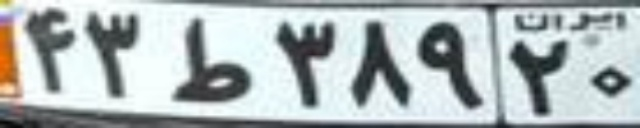0: (588, 65, 638, 98)
2: (506, 37, 572, 116)
3: (270, 21, 340, 107), (84, 11, 135, 96)
4: (23, 8, 75, 93)
8: (347, 17, 412, 108)
9: (415, 21, 487, 108)
taa: (173, 18, 251, 102)
